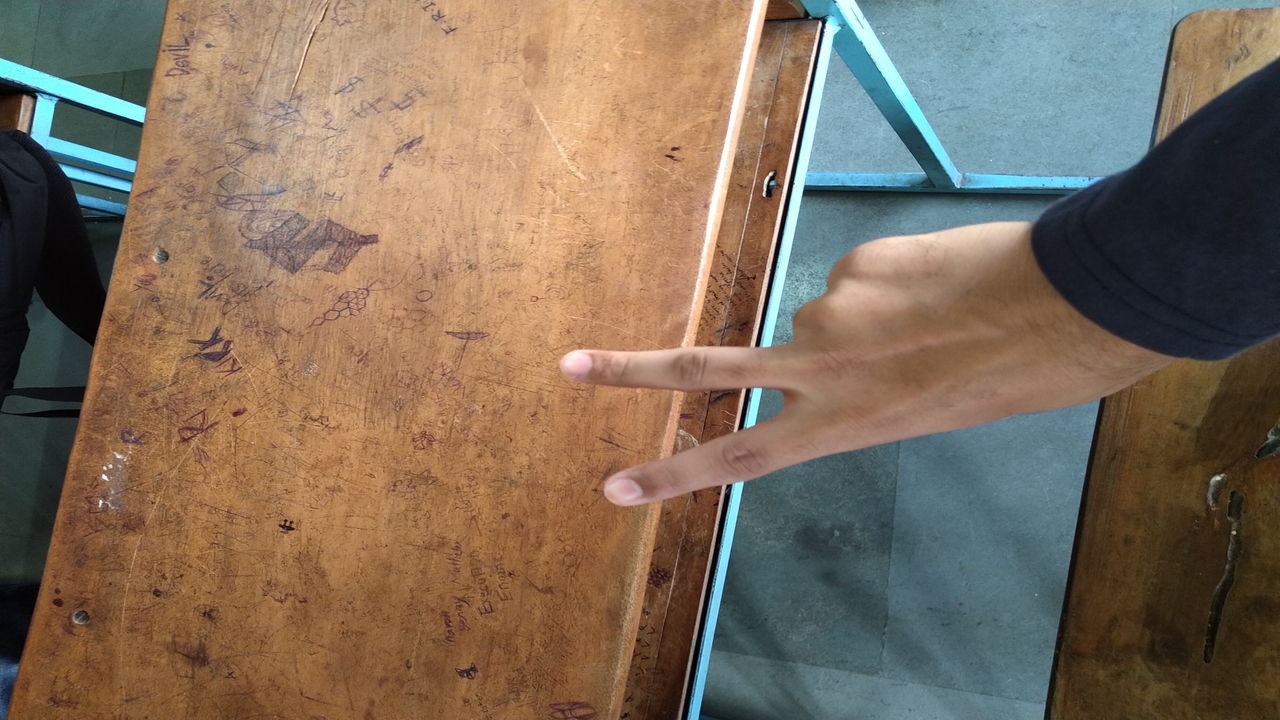fingertip: (596, 451, 652, 521), (556, 334, 603, 405)
